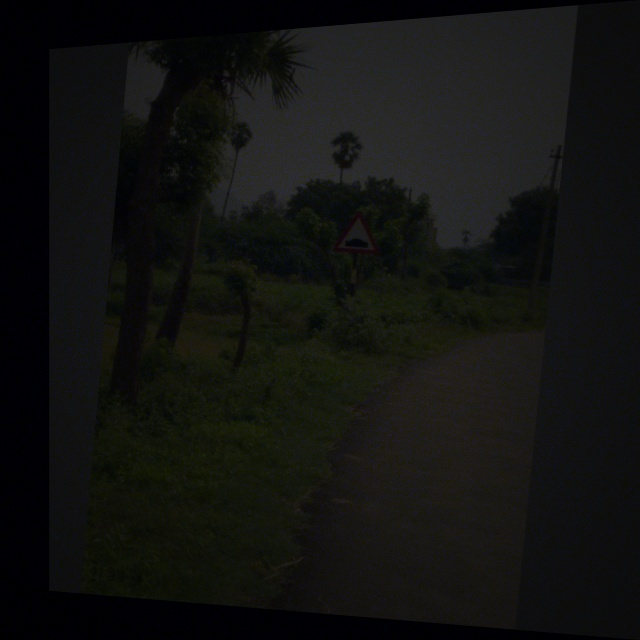Hump_or_Rough_Road: (327, 204, 385, 260)
